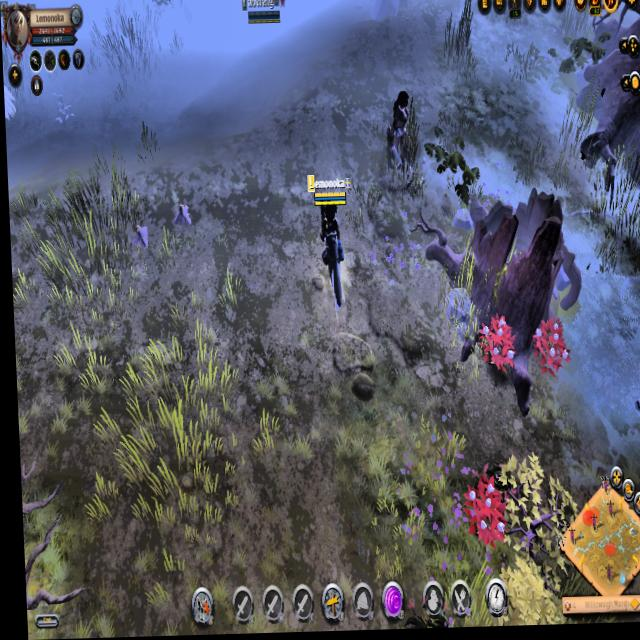fiber tier 5: (460, 477, 506, 552), (528, 316, 569, 385), (475, 314, 514, 378)
